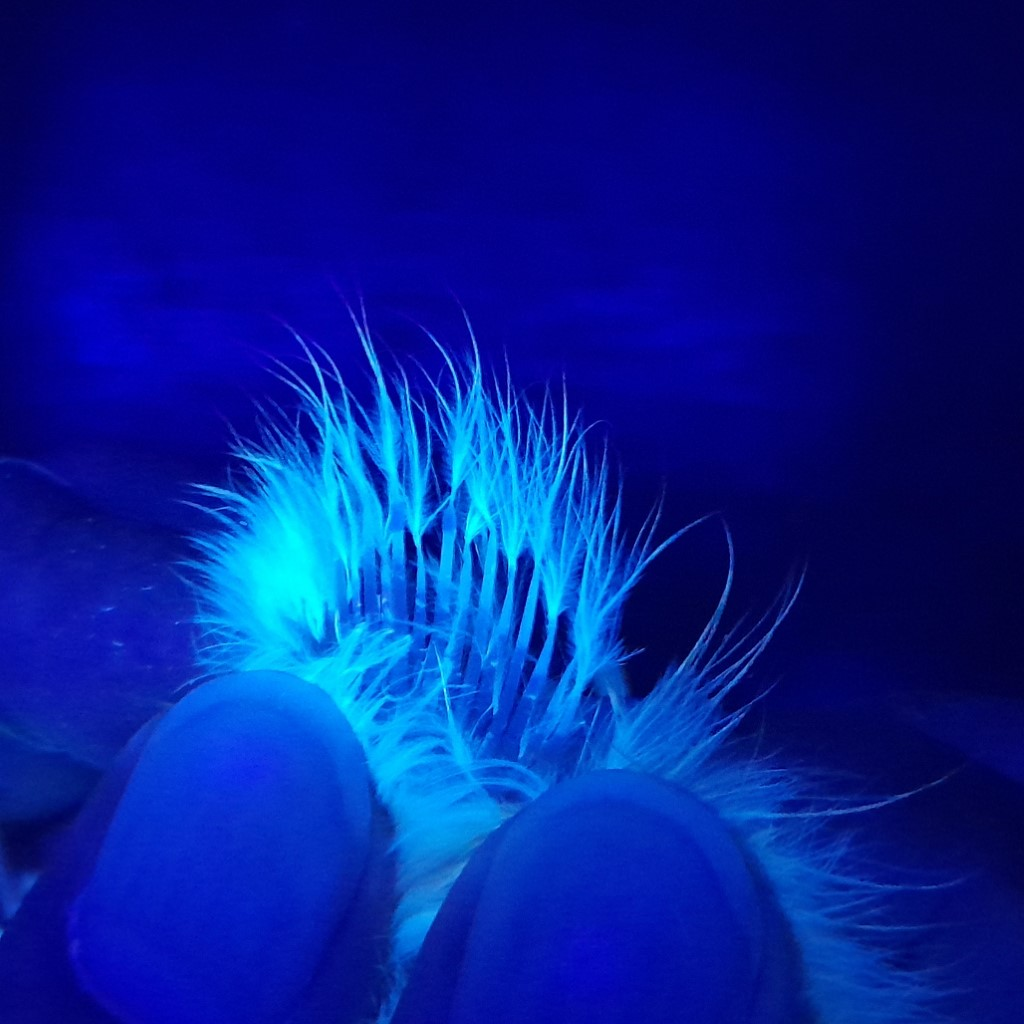male: (322, 480, 629, 806)
